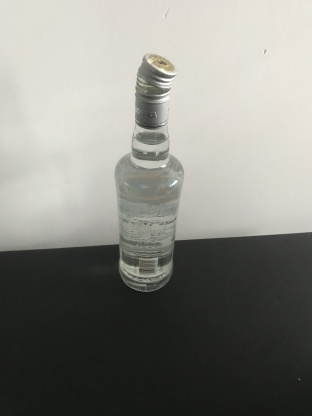nakretka: (133, 51, 178, 130)
